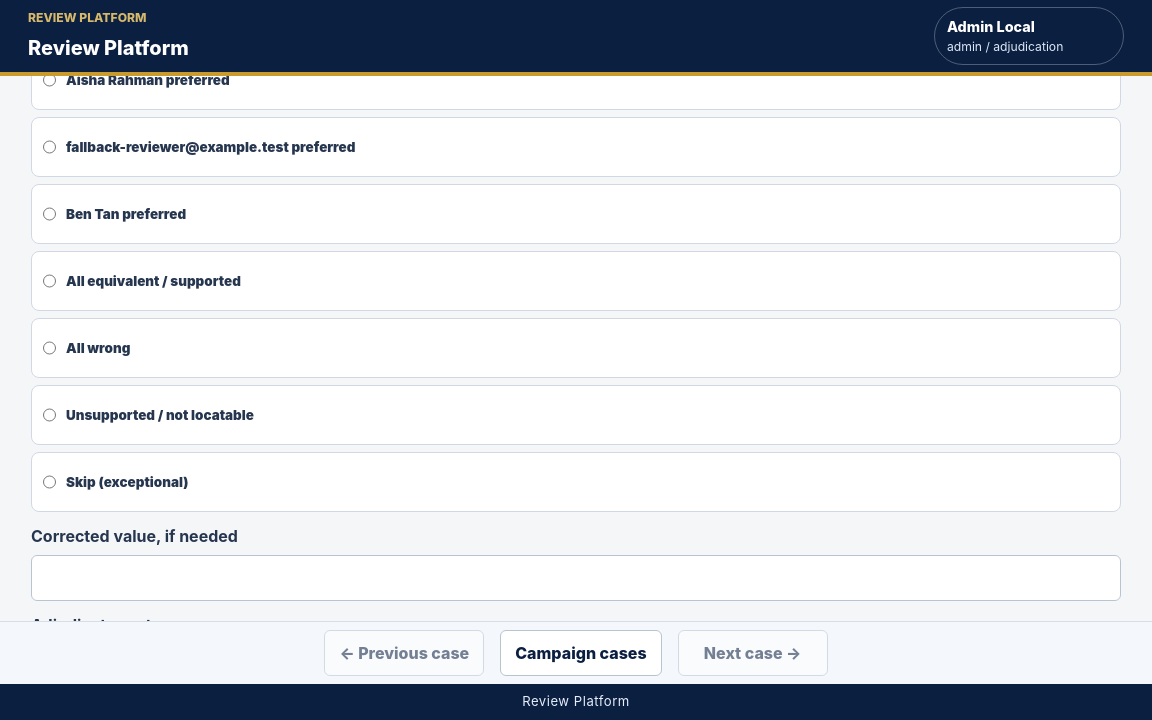
Test: adjudication workflows › shows reviewer identities only inside the authorized adjudication workspace
(page scrolled)
Expected: the text "Aisha Rahman preferred" is shown, left=66, top=76, right=230, bottom=91
Expected: the text "fallback-reviewer@example.test preferred" is shown, left=66, top=137, right=355, bottom=158
Click the radio button labelled "All wrong" at (50, 348), box left=43, top=327, right=56, bottom=369
(page scrolled)
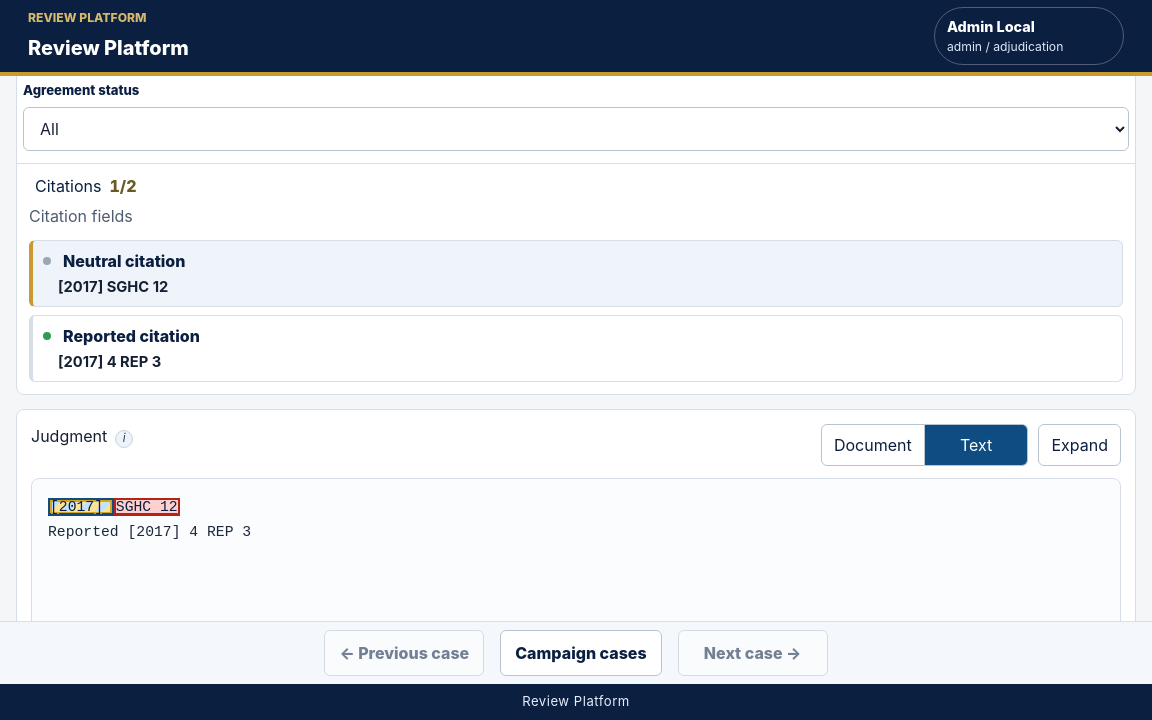
Now the button "Citations 1/2" is shown, box left=29, top=164, right=1123, bottom=204
Now the dropdown labelled "Agreement status" shows "All", box left=23, top=107, right=1129, bottom=151
Click the button "Reported citation [2017] 4 REP 3" at (131, 336), box left=29, top=315, right=1123, bottom=382
(page scrolled)
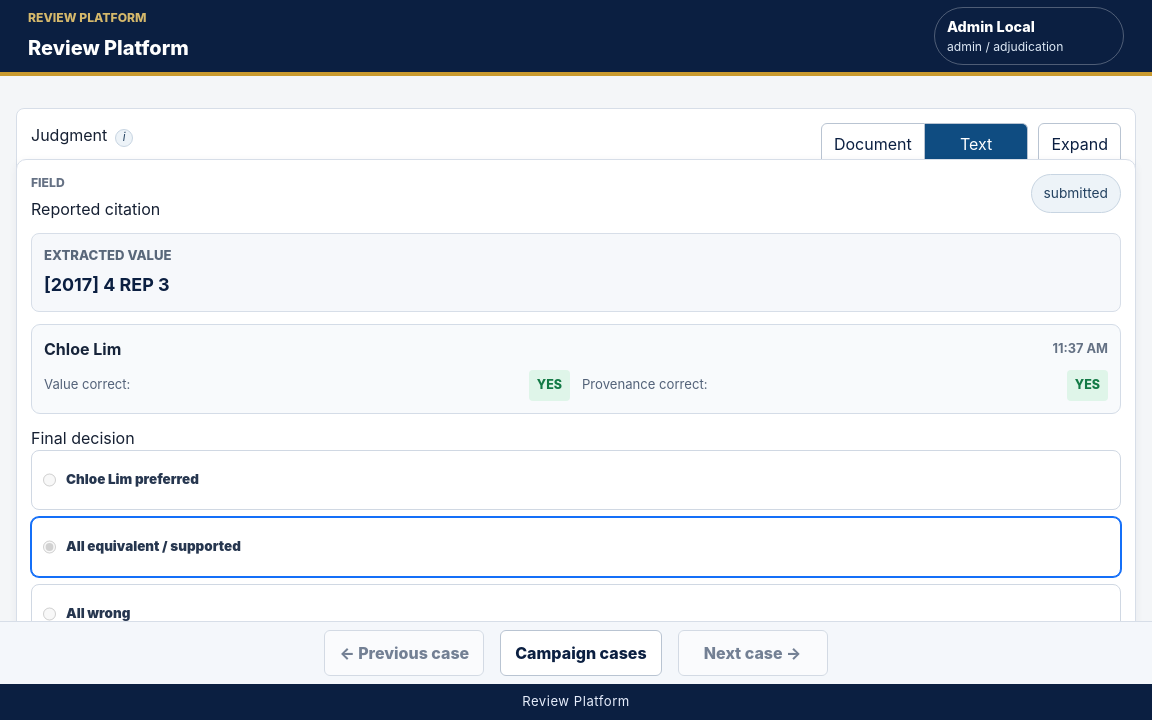
Now the text "Chloe Lim" is shown, box left=44, top=337, right=121, bottom=361
